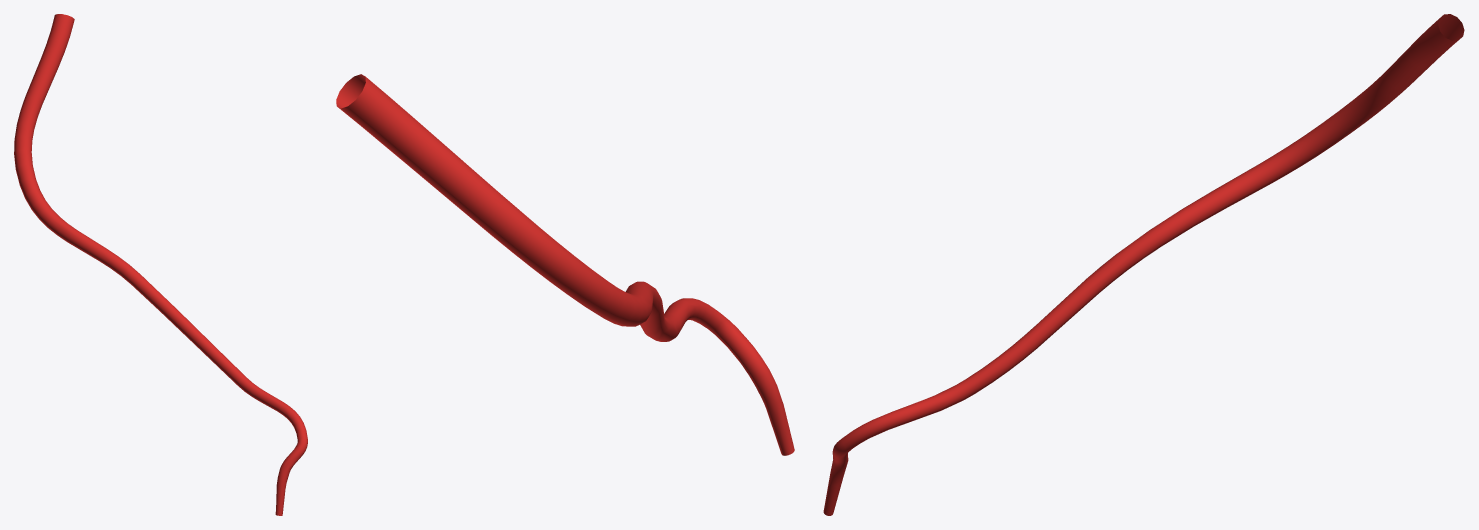
Rendered from circulatorio-obturator-artery-r.glb.
The picture shows the model from 3 angles, left to right: view 1: azimuth 30°, elevation 25°; view 2: azimuth 150°, elevation 25°; view 3: azimuth 270°, elevation 25°; orthographic projection. The views are drawn at different scales.
Parts seen in each view (by area): view 1: Obturator artery.r; view 2: Obturator artery.r; view 3: Obturator artery.r.
Boxes of the visible parts, <box> form: Obturator artery.r: <box>14,14,307,515</box>; Obturator artery.r: <box>336,74,794,455</box>; Obturator artery.r: <box>823,14,1464,515</box>.
Bounding box in the file's own units: 0.0163 × 0.0436 × 0.0509.
